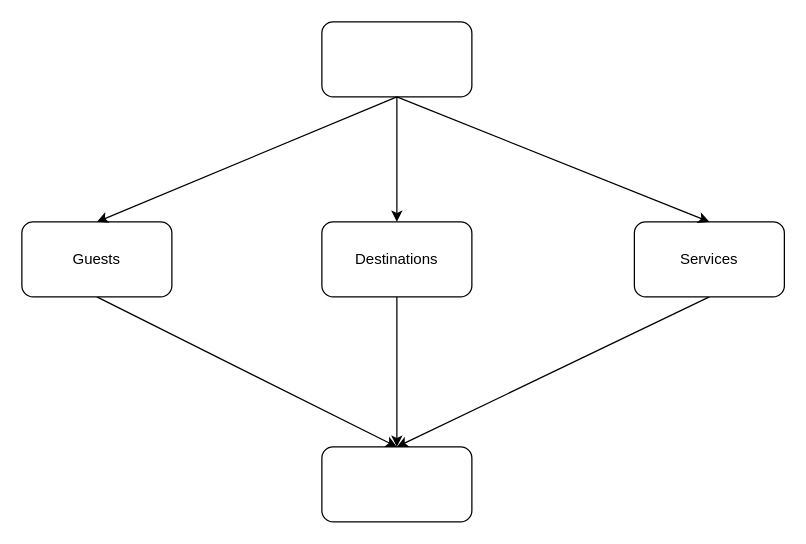
Image size: 806x544. Some labels were removed from this diagram. Here are the shapes that lost their labels. From the top down, the box of each, then its label:
(321, 21, 472, 97): main
(321, 446, 472, 522): database
